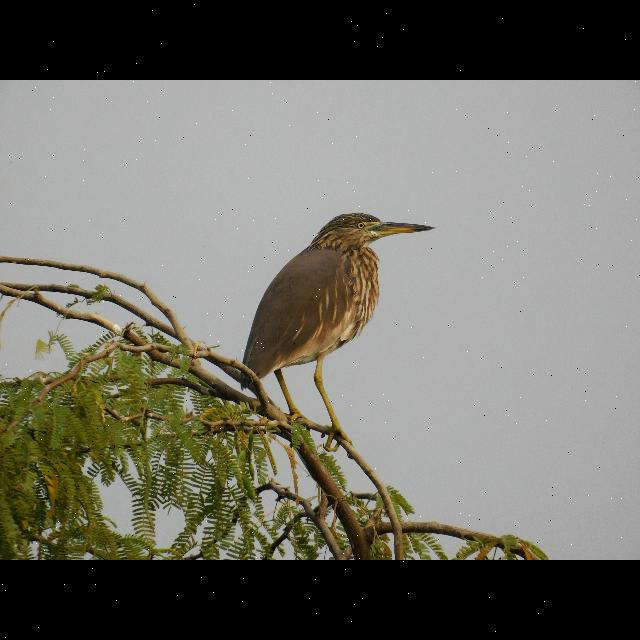heron: (235, 204, 441, 446)
